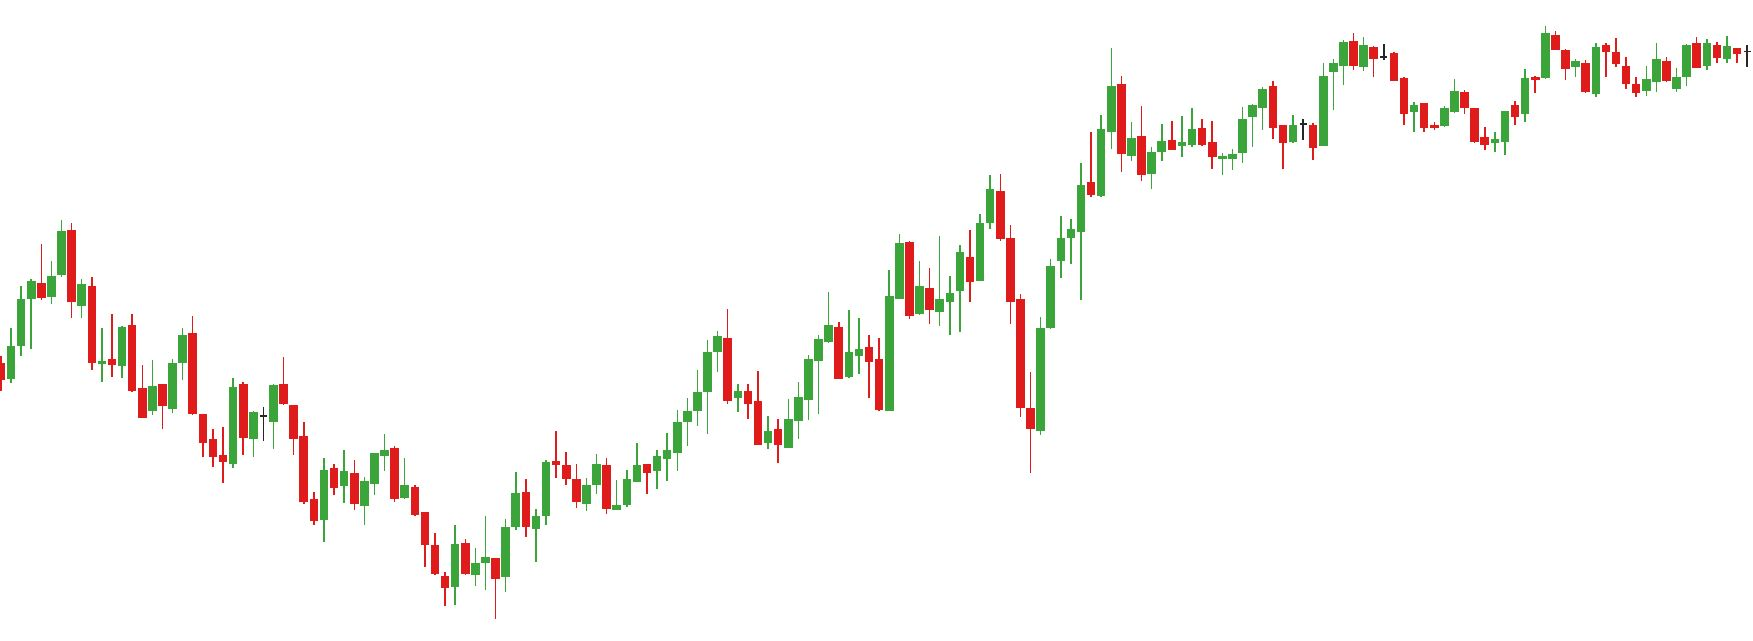buy: (873, 296, 1049, 481), (442, 541, 514, 630)
sell: (337, 427, 402, 518), (225, 345, 290, 436)
